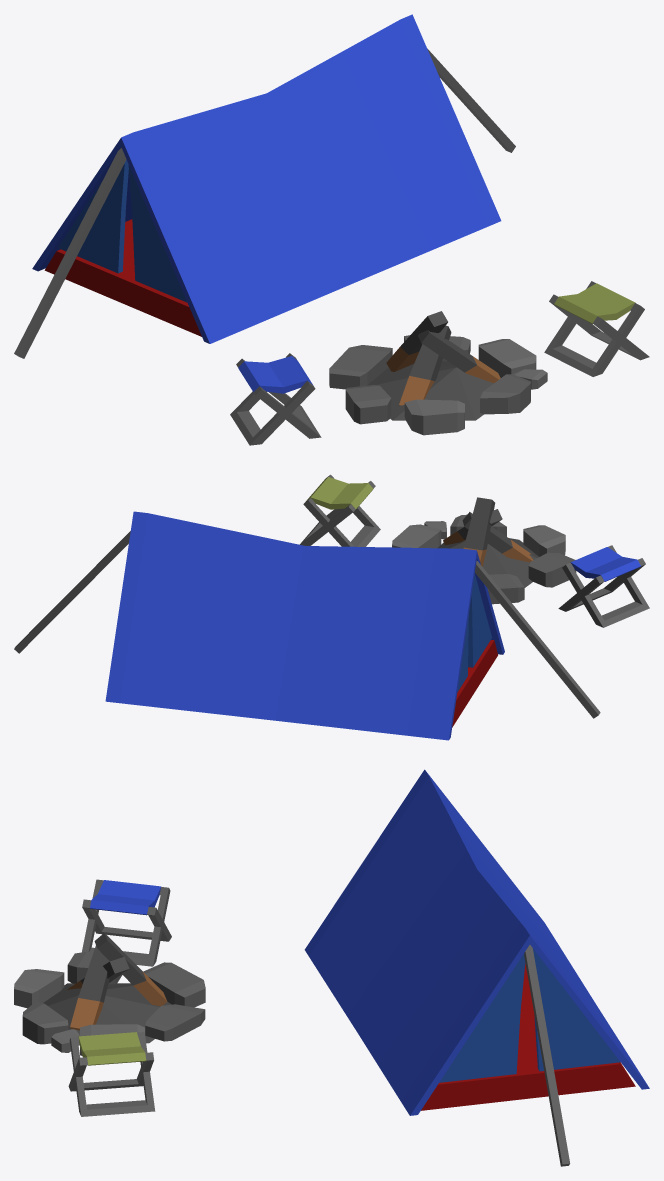
Rendered from 캠핑용품.FBX.
3 views of the same model, one above another, from view 1: azimuth 30°, elevation 25°; view 2: azimuth 150°, elevation 25°; view 3: azimuth 270°, elevation 25° (orthographic). The views are drawn at different scales.
Parts seen in each view (by area): view 1: Box014; view 2: Box014; view 3: Box014.
Part boxes in pixels (x1,y1,x2,y2): Box014: (14,14,649,445); Box014: (14,474,649,740); Box014: (14,769,649,1166).
Bounding box in the file's own units: 1039017 × 983997 × 301577.
